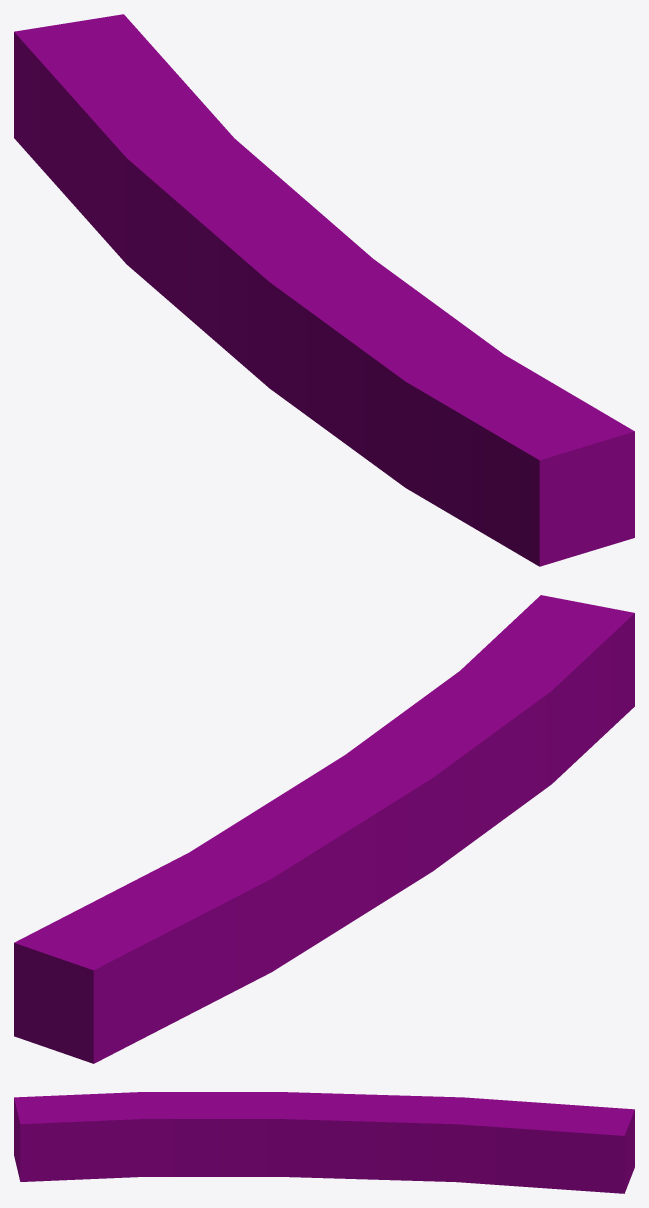
The model's file is Carrot2.FBX.
The picture shows the model from 3 angles, top to bottom: view 1: azimuth 30°, elevation 25°; view 2: azimuth 150°, elevation 25°; view 3: azimuth 270°, elevation 25°; orthographic projection. The views are drawn at different scales.
Visible parts, largest first — view 1: Carrot_2; view 2: Carrot_2; view 3: Carrot_2.
Part boxes in pixels (bbox=[...]): Carrot_2: bbox=[14, 14, 634, 566]; Carrot_2: bbox=[14, 595, 634, 1063]; Carrot_2: bbox=[14, 1092, 634, 1193].
Size of the model in its own units: 1.76 by 1.09 by 10.56.
